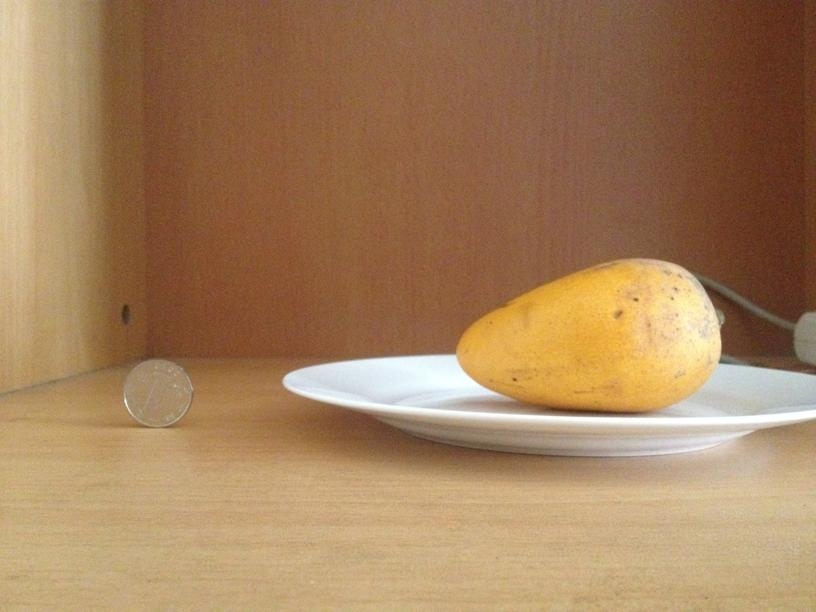coin: (122, 359, 195, 427)
mango: (454, 253, 725, 412)
